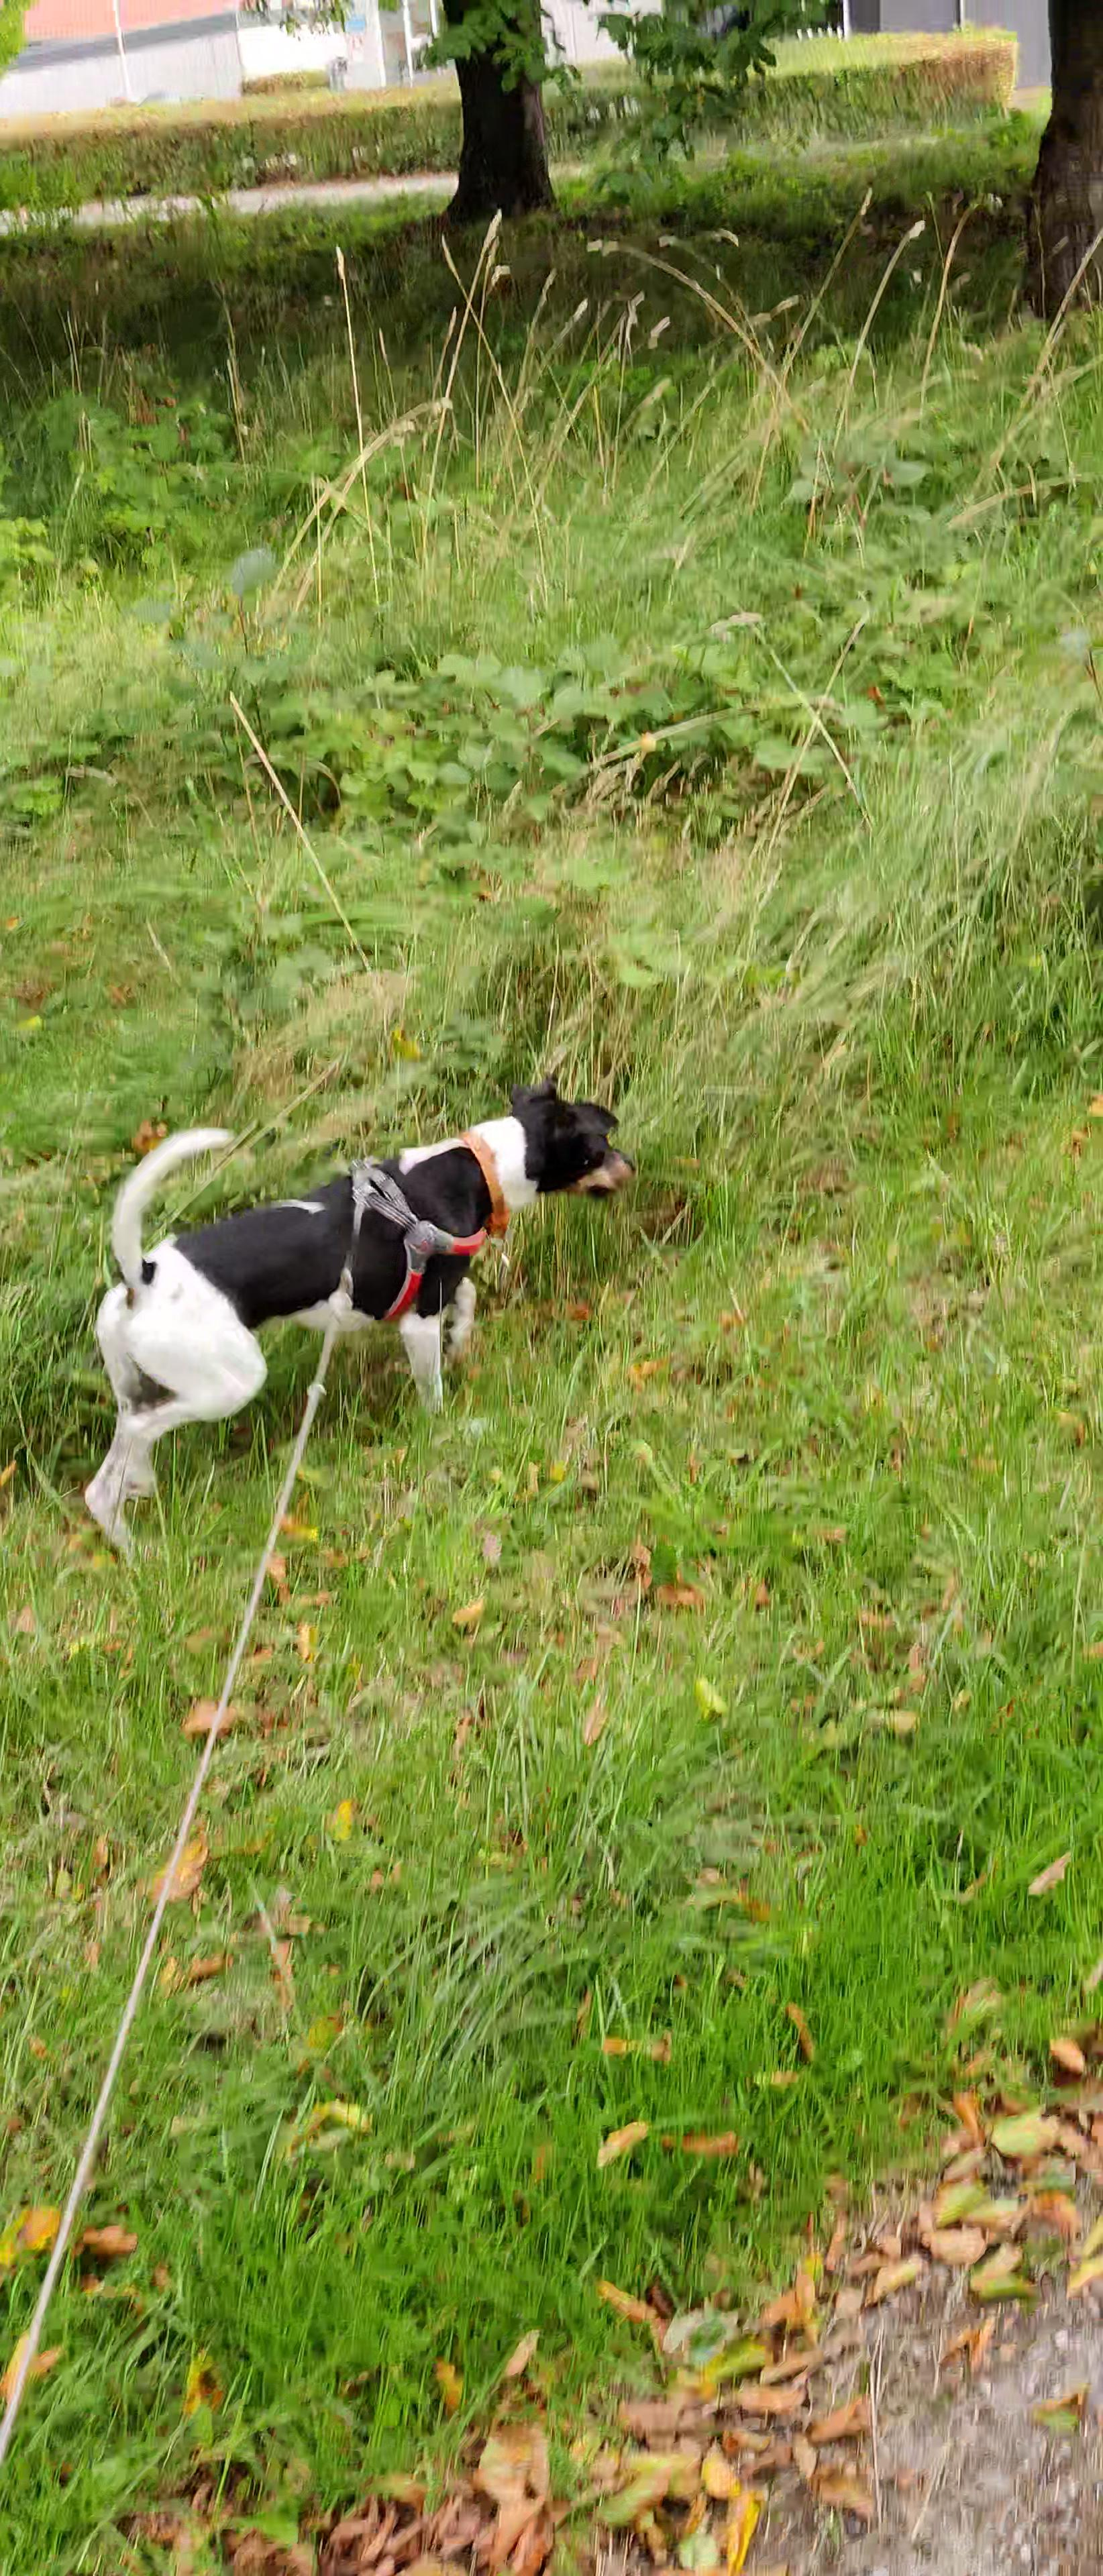Dog: (81, 1079, 639, 1559)
